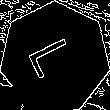L_NE: (26, 33, 84, 83)
